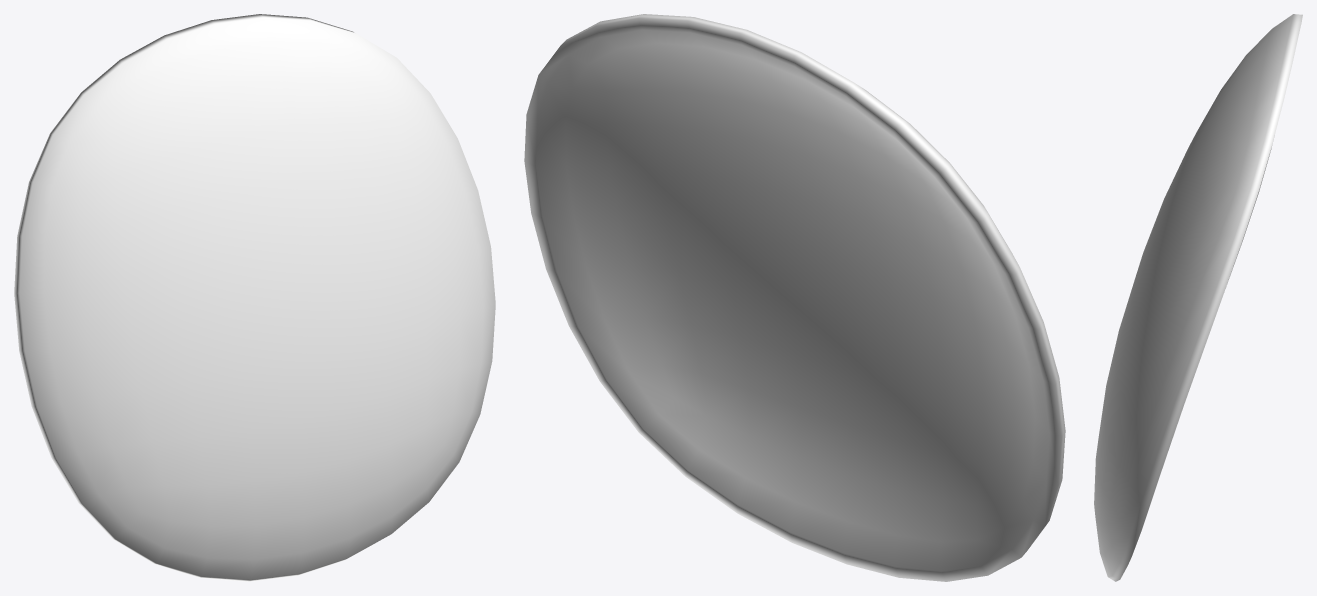
The model's file is R_whiteEye.obj.
The picture shows the model from 3 angles, left to right: view 1: azimuth 30°, elevation 25°; view 2: azimuth 150°, elevation 25°; view 3: azimuth 270°, elevation 25°; orthographic projection. The views are drawn at different scales.
Visible parts, largest first — view 1: R_whiteEye Jake; view 2: R_whiteEye Jake; view 3: R_whiteEye Jake.
Boxes of the visible parts, bbox=[...] form: R_whiteEye Jake: bbox=[14, 14, 495, 581]; R_whiteEye Jake: bbox=[524, 14, 1065, 581]; R_whiteEye Jake: bbox=[1094, 14, 1302, 581].
Bounding box in the file's own units: 1.56 × 1.64 × 0.6009.
Materials: 1 (1 with a texture image).
